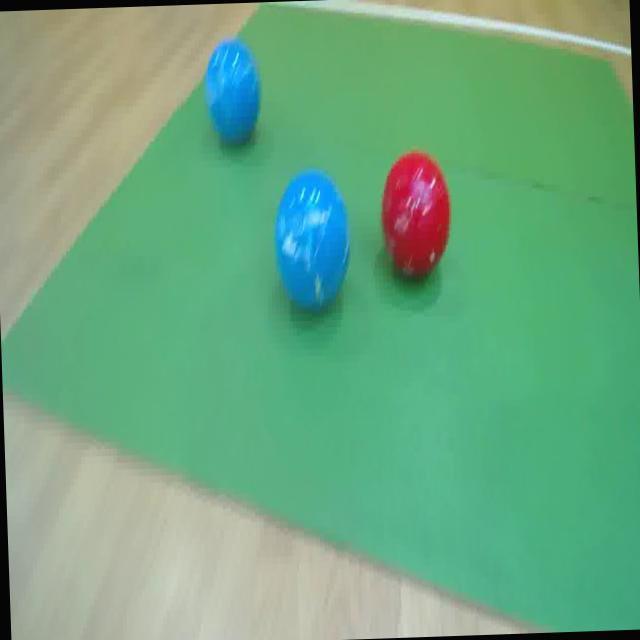blue_ball: (271, 168, 355, 312), (197, 37, 265, 155)
red_ball: (376, 144, 454, 280)
